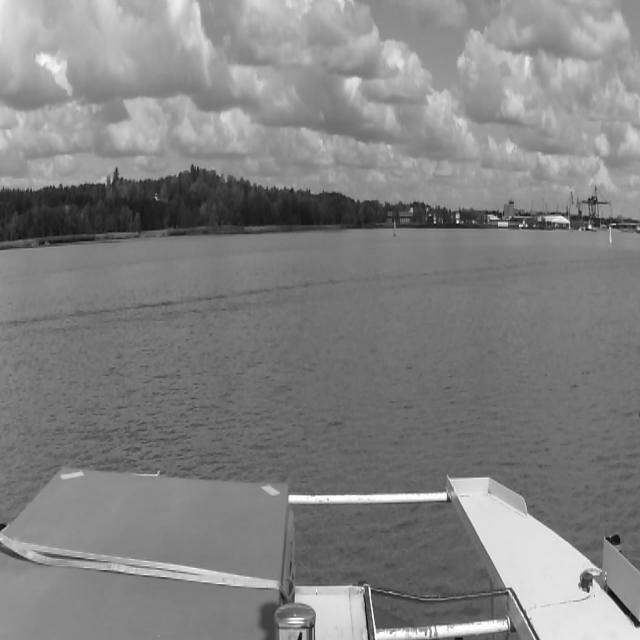buoy: (608, 225, 612, 242), (394, 222, 396, 236)
